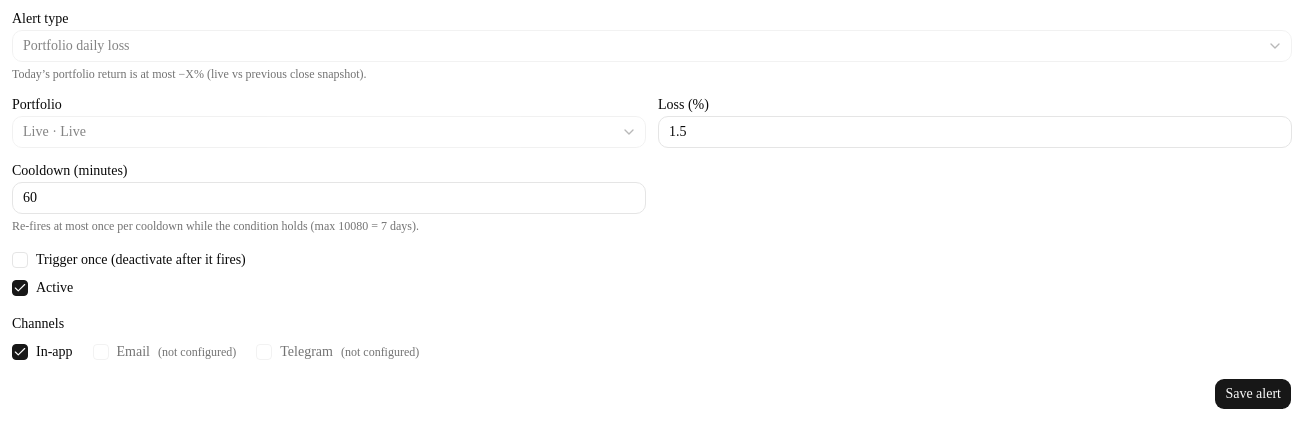
Test: AlertForm › edits only the mutable fields of an existing alert
This screenshot has width=1304, height=446.
Later steps or results of the test are not shown.
Replace the text in the field labelled "Loss (%)" with "100" at point(975, 132), box [658,116,1292,148]
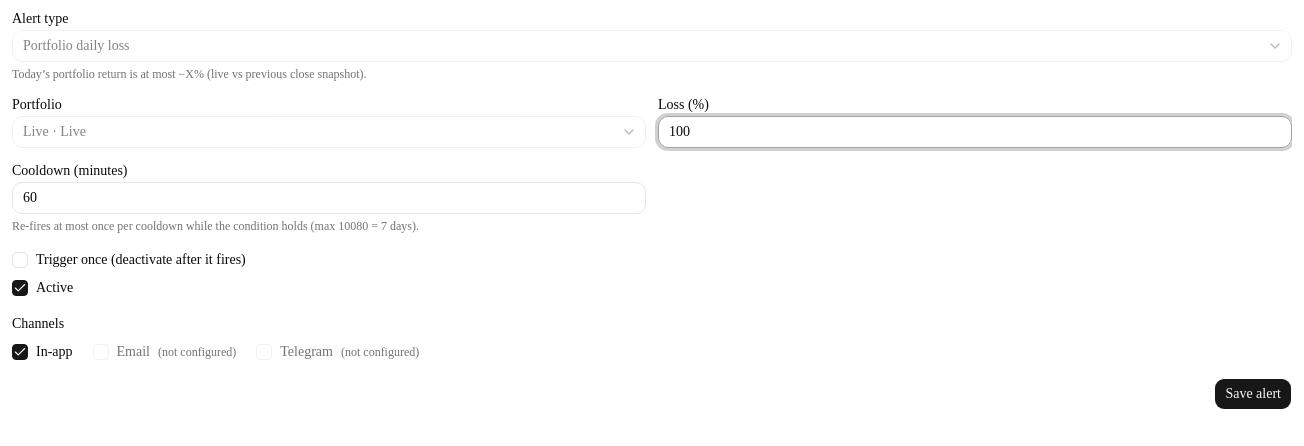
Click the button "Save alert" at point(1253, 394), box [1214,378,1292,410]
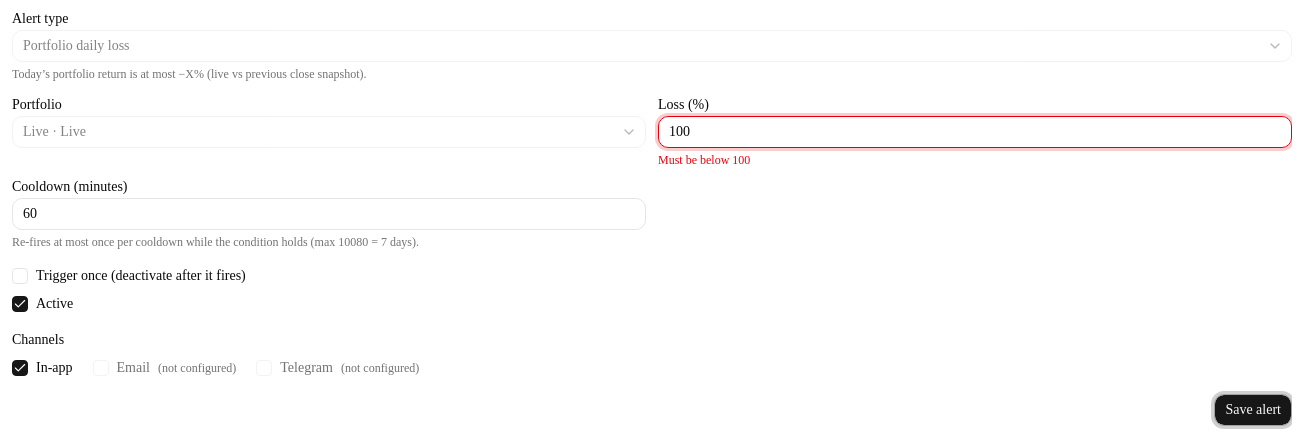
Expected: the text "Must be below 100" is shown, [658,153,750,167]
